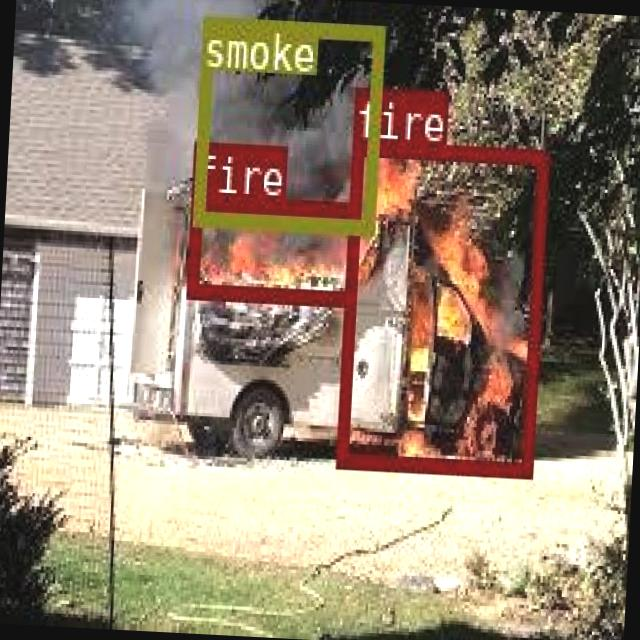fire: (336, 138, 546, 476), (184, 191, 358, 305)
smoke: (191, 16, 382, 233)
